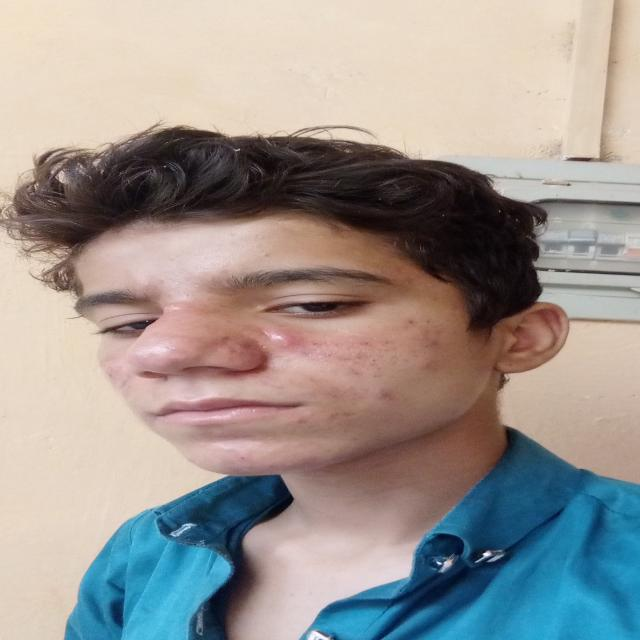Acne: (273, 330, 301, 346), (163, 299, 188, 312), (371, 388, 403, 398), (329, 410, 356, 420), (422, 330, 441, 344), (392, 318, 416, 328), (248, 251, 274, 260), (418, 359, 438, 370), (288, 418, 312, 427), (344, 368, 365, 378), (239, 340, 253, 350), (268, 384, 288, 391), (230, 455, 247, 462), (222, 347, 236, 355), (220, 334, 233, 341)
Englarged-Pores: (309, 342, 410, 368), (100, 363, 129, 386)
